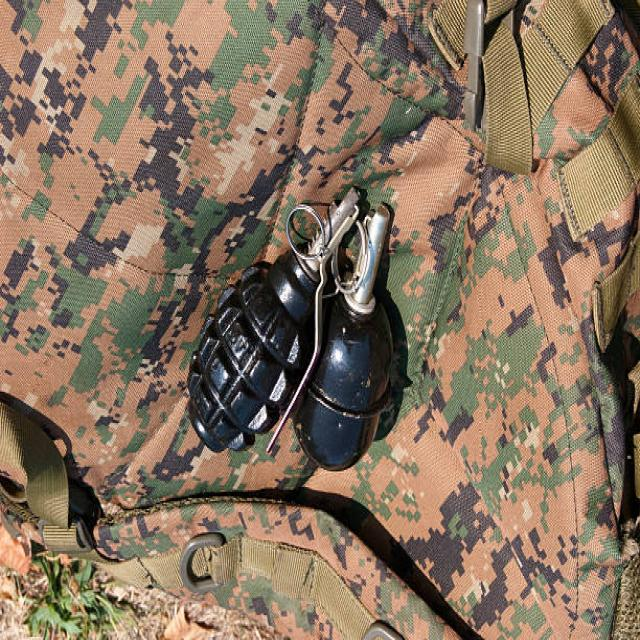grenade: (182, 177, 363, 462), (294, 198, 409, 473)
